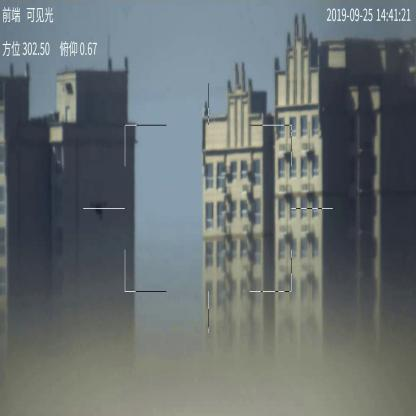uav: (88, 199, 107, 220)
